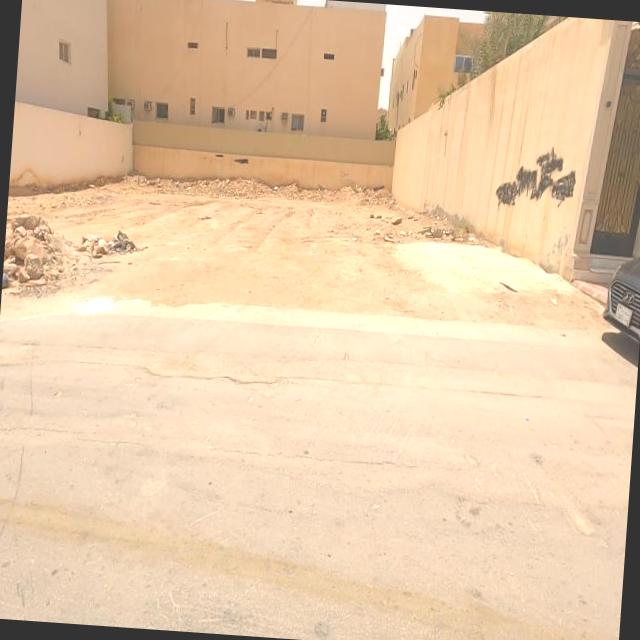debris: (438, 82, 628, 286)
